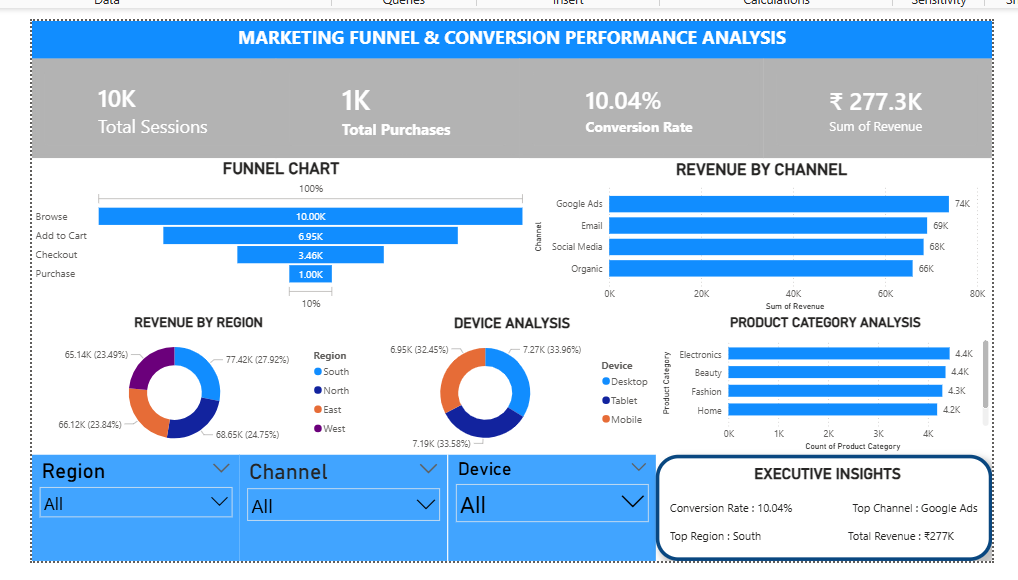

What the dashboard file says about the page in this screenshot:
{"tool":"powerbi","page":{"name":"Page 1","canvas":[1280,720],"ordinal":0},"visuals":[{"type":"textbox","box":[0,0,1280.3,50.8],"z":0},{"type":"cardVisual","fields":{"Data":["Funnel_Analysis_Data.Total Sessions"]},"box":[0,50.8,325.2,133.1],"z":1000},{"type":"cardVisual","fields":{"Data":["Funnel_Analysis_Data.Total Purchases"]},"box":[325.2,50.8,325.2,133.1],"z":2000},{"type":"cardVisual","fields":{"Data":["Funnel_Analysis_Data.Conversion Rate"]},"box":[650.4,50.8,325.2,133.1],"z":3000},{"type":"cardVisual","fields":{"Data":["Sum(Funnel_Analysis_Data.Revenue)"]},"box":[975.6,50.8,304.6,133.1],"z":4000},{"type":"funnel","title":"FUNNEL CHART","fields":{"Category":["Funnel_Analysis_Data.Event"],"Y":["CountNonNull(Funnel_Analysis_Data.Event)"]},"box":[0,183.9,664.2,207.2],"z":5000},{"type":"clusteredBarChart","title":"REVENUE BY CHANNEL","fields":{"Category":["Funnel_Analysis_Data.Channel"],"Y":["Sum(Funnel_Analysis_Data.Revenue)"]},"box":[664.3,184.3,615.7,207.1],"z":6000},{"type":"donutChart","title":"REVENUE BY REGION","fields":{"Category":["Funnel_Analysis_Data.Region"],"Y":["Sum(Funnel_Analysis_Data.Revenue)"]},"box":[0,391.4,444.3,187.1],"z":7000},{"type":"donutChart","title":"DEVICE ANALYSIS","fields":{"Category":["Funnel_Analysis_Data.Device"],"Y":["CountNonNull(Funnel_Analysis_Data.Session ID)"]},"box":[444.3,391.4,390,187.1],"z":8000},{"type":"clusteredBarChart","title":"PRODUCT CATEGORY ANALYSIS","fields":{"Category":["Funnel_Analysis_Data.Product Category"],"Y":["CountNonNull(Funnel_Analysis_Data.Product Category)"]},"box":[834.3,391.4,445.7,187.1],"z":9000},{"type":"slicer","fields":{"Values":["Funnel_Analysis_Data.Region"]},"box":[0,578.6,277.1,141.4],"z":10000},{"type":"slicer","fields":{"Values":["Funnel_Analysis_Data.Channel"]},"box":[277.1,578.6,277.1,141.4],"z":11000},{"type":"slicer","fields":{"Values":["Funnel_Analysis_Data.Device"]},"box":[554.3,578.6,277.1,141.4],"z":12000},{"type":"textbox","title":"EXECUTIVE INSIGHTS","box":[831.4,578.6,448.6,141.4],"z":13000}]}

Visuals, with their boxes in screenshot pixels (x1, y1, x2, y2):
textbox: l=24, t=16, r=992, b=54
cardVisual - Funnel_Analysis_Data.Total Sessions: l=24, t=54, r=270, b=155
cardVisual - Funnel_Analysis_Data.Total Purchases: l=270, t=54, r=516, b=155
cardVisual - Funnel_Analysis_Data.Conversion Rate: l=516, t=54, r=762, b=155
cardVisual - Sum(Funnel_Analysis_Data.Revenue): l=762, t=54, r=992, b=155
"FUNNEL CHART" funnel: l=24, t=155, r=526, b=312
"REVENUE BY CHANNEL" clusteredBarChart: l=526, t=155, r=992, b=312
"REVENUE BY REGION" donutChart: l=24, t=312, r=360, b=454
"DEVICE ANALYSIS" donutChart: l=360, t=312, r=655, b=454
"PRODUCT CATEGORY ANALYSIS" clusteredBarChart: l=655, t=312, r=992, b=454
slicer - Funnel_Analysis_Data.Region: l=24, t=454, r=233, b=561
slicer - Funnel_Analysis_Data.Channel: l=233, t=454, r=443, b=561
slicer - Funnel_Analysis_Data.Device: l=443, t=454, r=653, b=561
"EXECUTIVE INSIGHTS" textbox: l=653, t=454, r=992, b=561
